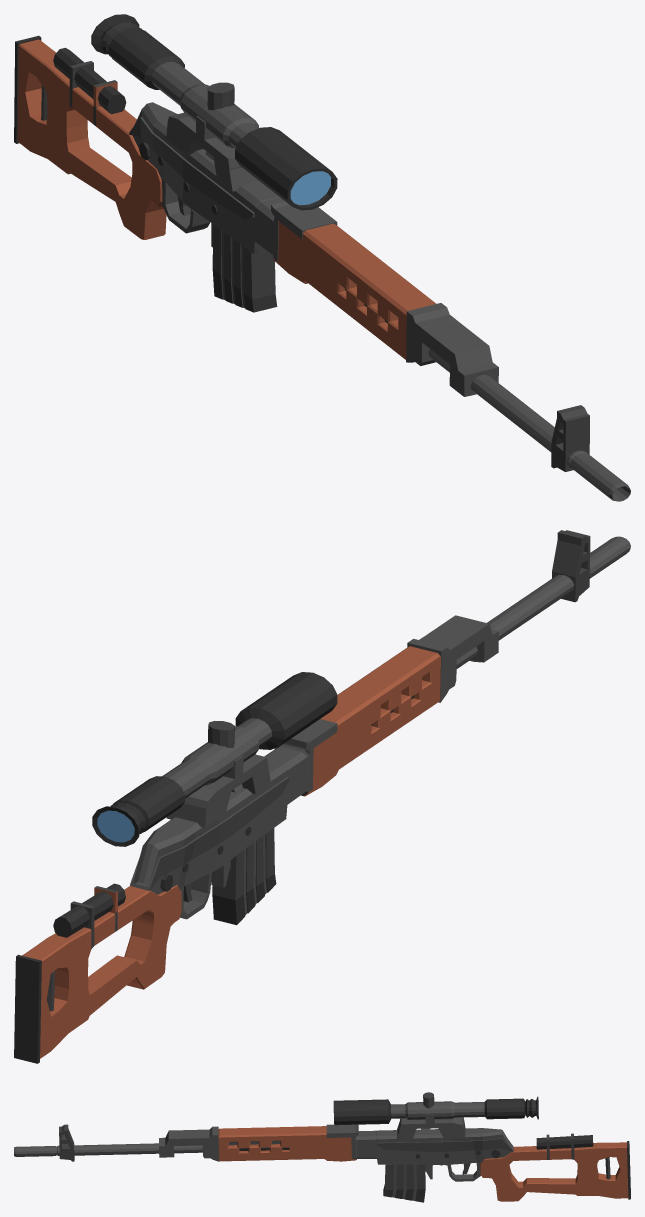
File: PlayerGun.fbx
3 renders of one model, top to bottom at view 1: azimuth 30°, elevation 25°; view 2: azimuth 150°, elevation 25°; view 3: azimuth 270°, elevation 25°, orthographic. The views are drawn at different scales.
Visible parts, largest first — view 1: Cube.079, Cube.080; view 2: Cube.079, Cube.080; view 3: Cube.079, Cube.080.
Part boxes in pixels (x1,y1,x2,y2): Cube.079: (14,14,630,501); Cube.080: (212,224,277,312); Cube.079: (14,530,630,1063); Cube.080: (212,828,276,925); Cube.079: (14,1092,630,1201); Cube.080: (383,1164,425,1202).
Bounding box in the file's own units: 3.59 × 13.92 × 74.55.
